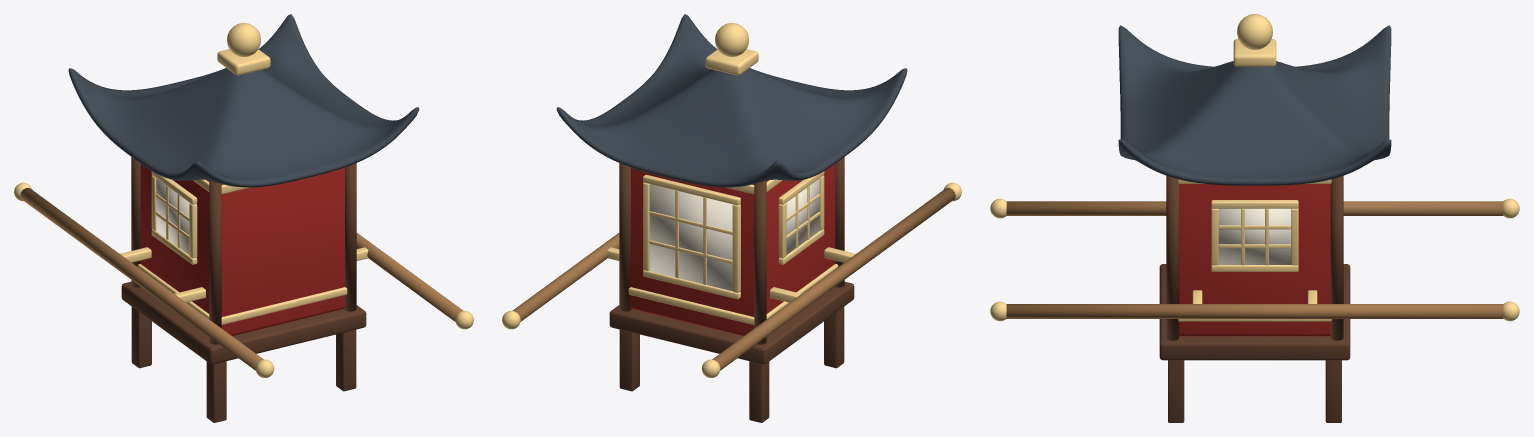
Rendered from gama.glb.
3 renders of one model, left to right at view 1: azimuth 30°, elevation 25°; view 2: azimuth 150°, elevation 25°; view 3: azimuth 270°, elevation 25°, orthographic. The views are drawn at different scales.
Parts seen in each view (by area): view 1: Gama; view 2: Gama; view 3: Gama.
Boxes of the visible parts, box(x1,y1,x2,y2) form: Gama: box(14, 14, 473, 422); Gama: box(502, 14, 961, 422); Gama: box(990, 14, 1519, 422).
Size of the model in its own units: 1.66 by 2.49 by 3.22.
